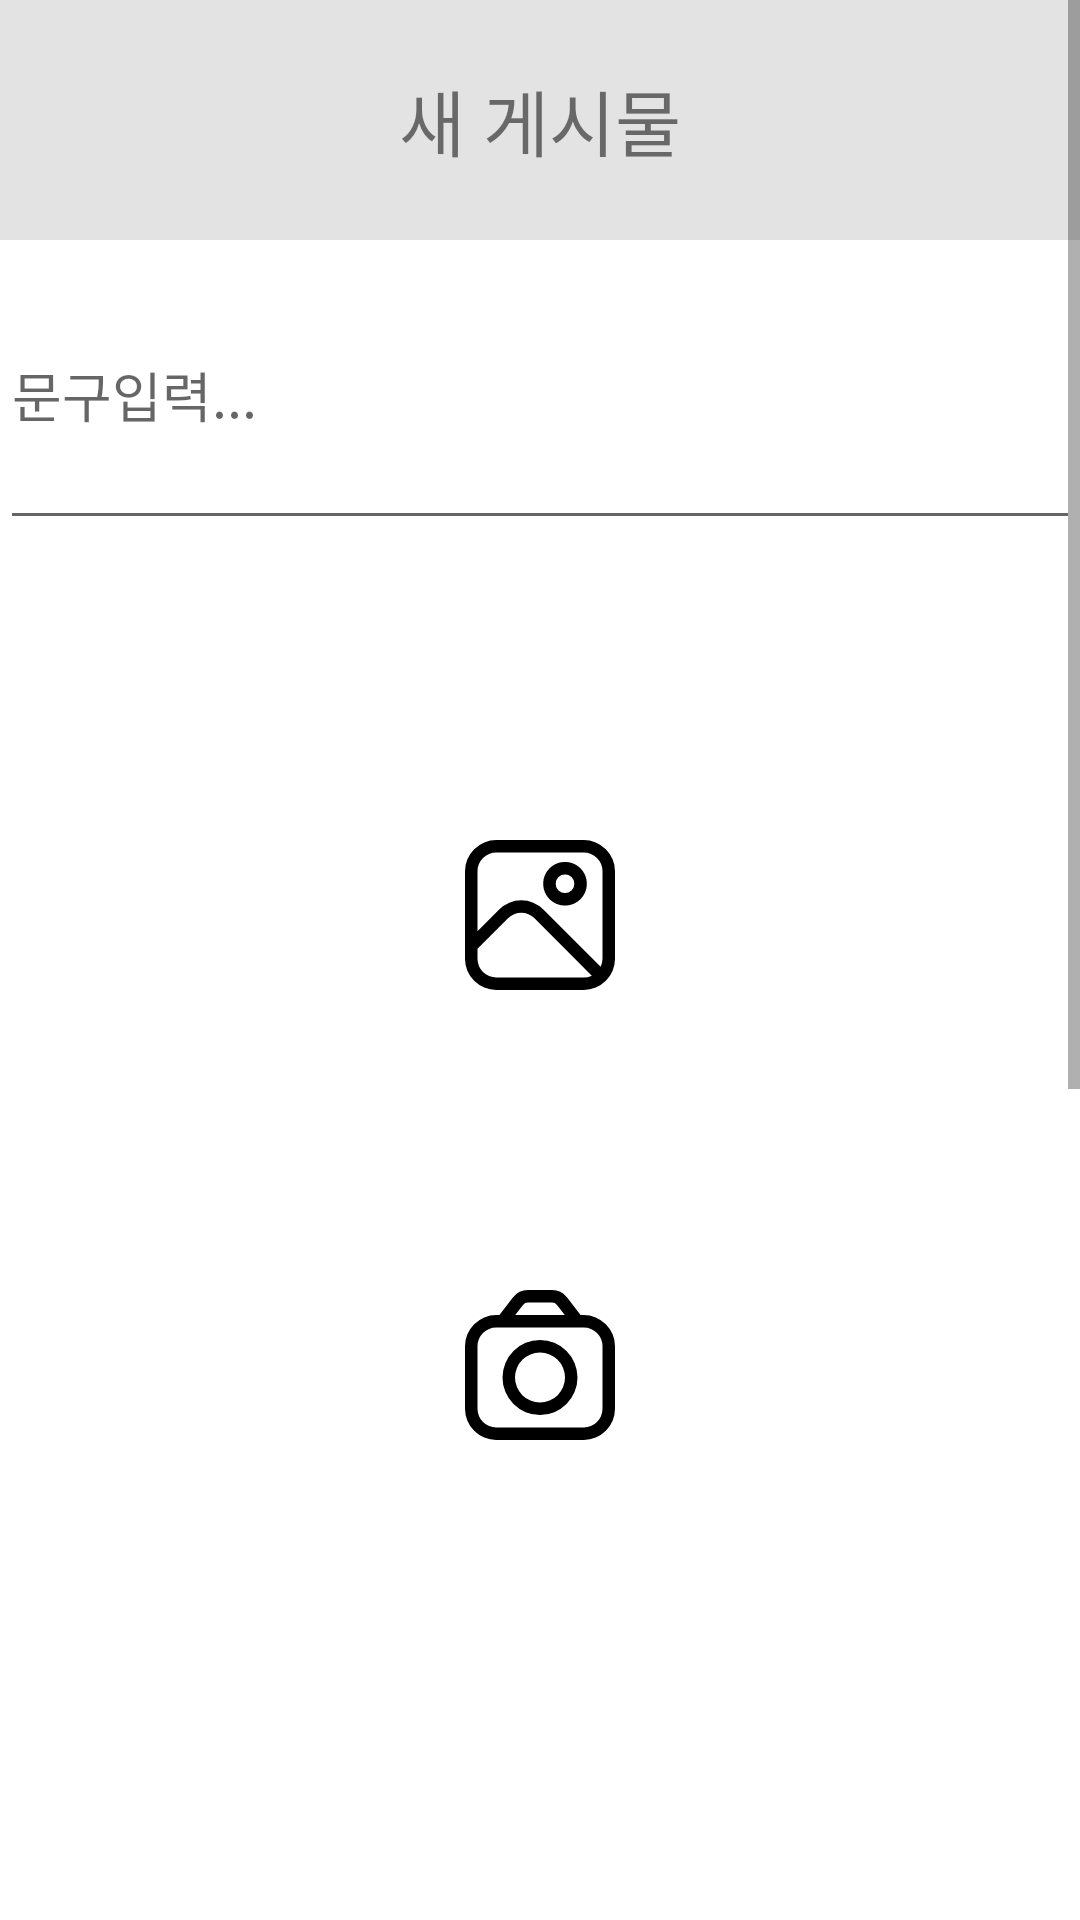

Icon bounding boxes for this 1080w x 1920h phone screenshot, format [left=x1, top=y1, right=x2, bottom=y2]:
free font camera: [left=465, top=1290, right=615, bottom=1440]
free font picture: [left=465, top=840, right=615, bottom=990]
